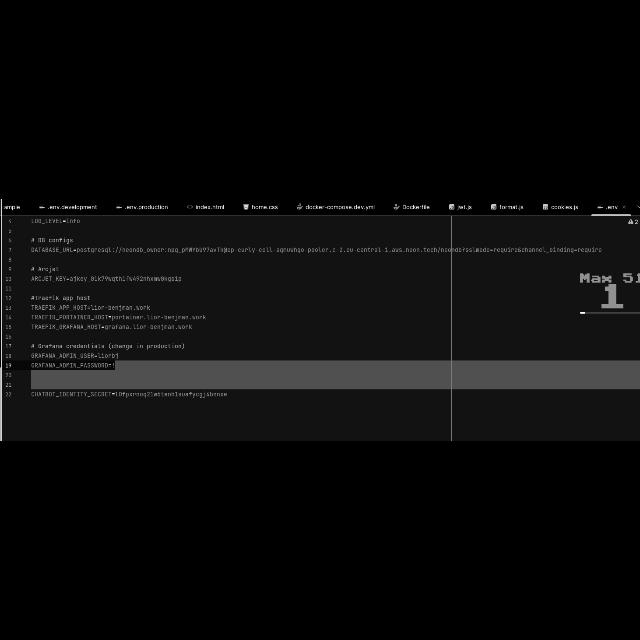code_screen: (2, 217, 614, 398)
